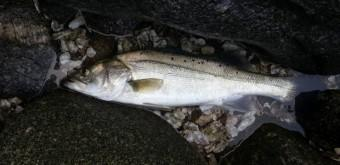fish: (64, 50, 308, 110)
